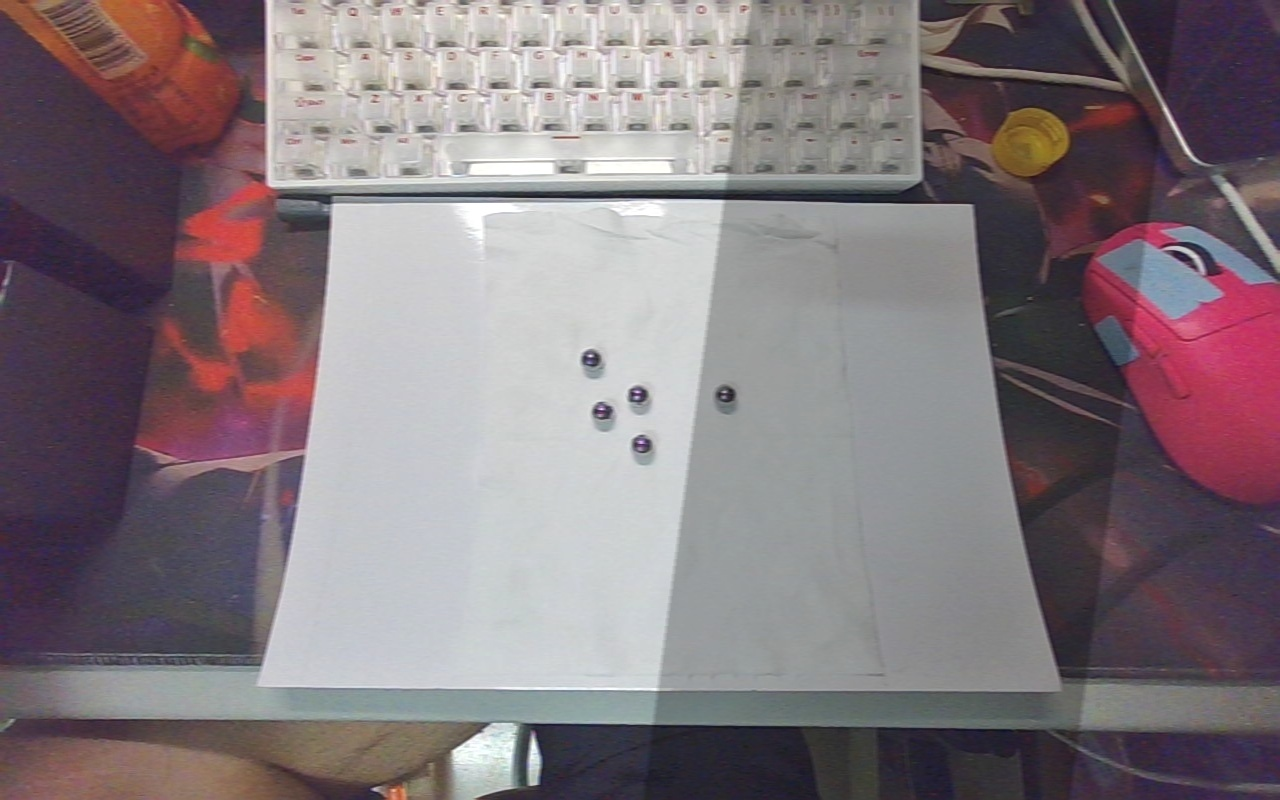ball: (590, 399, 617, 427), (713, 380, 738, 410), (626, 380, 651, 409), (580, 347, 606, 374), (630, 431, 654, 459)
